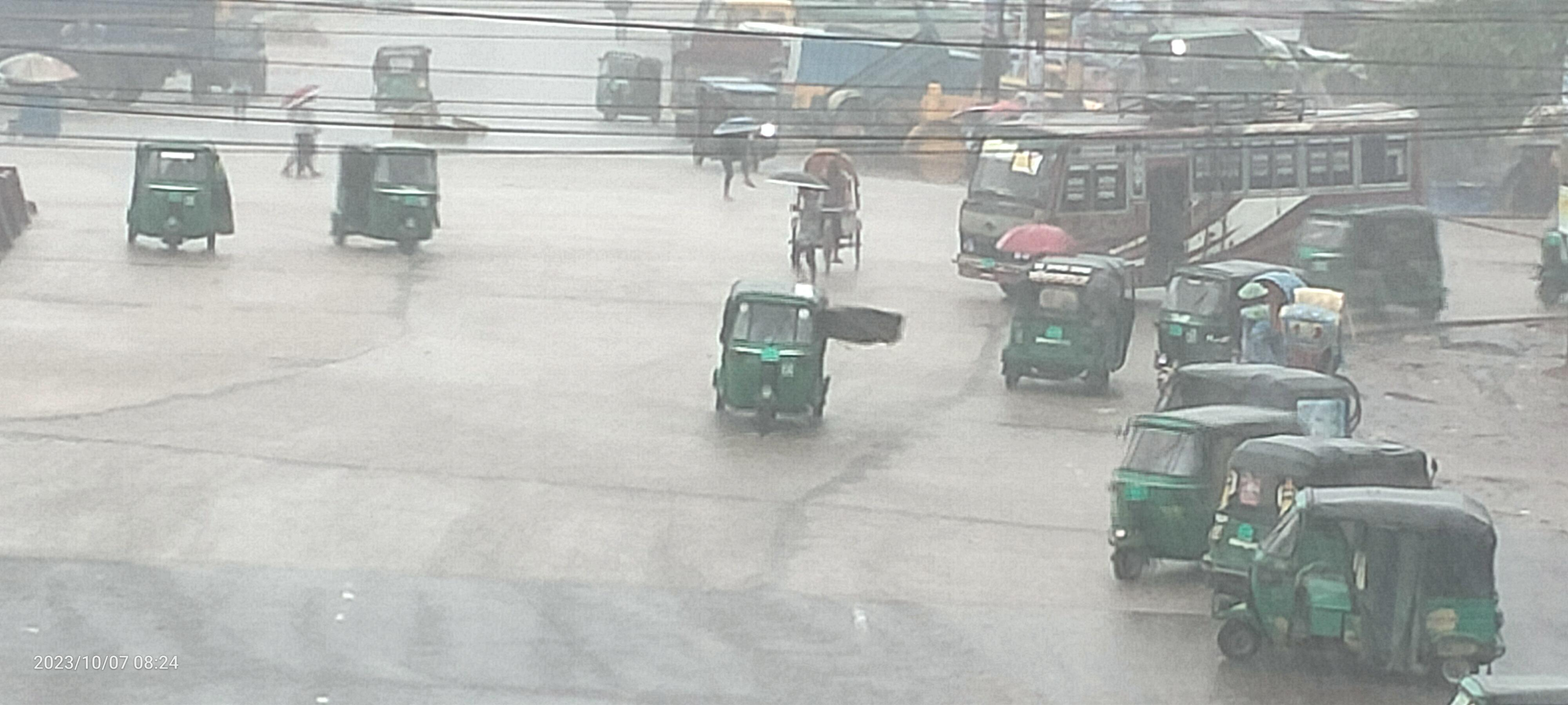Bus: (928, 86, 1508, 345)
Car: (773, 127, 878, 284)
Truck: (760, 14, 1008, 154), (0, 0, 229, 124)
